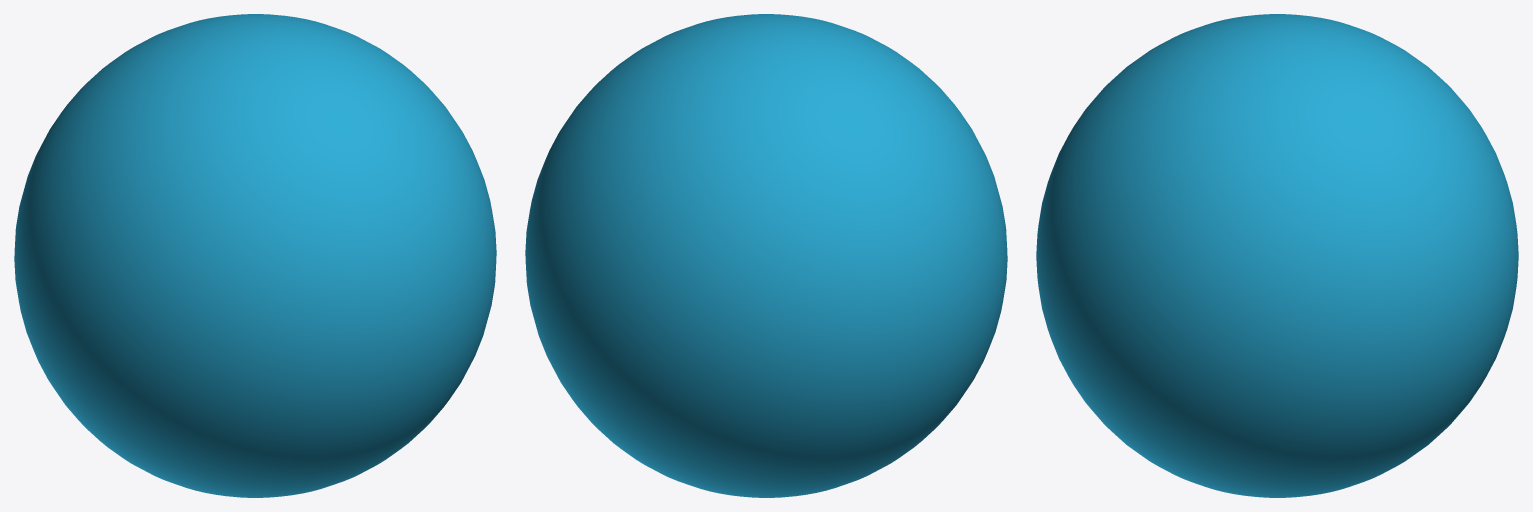
Rendered from TransparentBlueSphere.dae.
3 views of the same model, side by side, from view 1: azimuth 30°, elevation 25°; view 2: azimuth 150°, elevation 25°; view 3: azimuth 270°, elevation 25° (orthographic).
Visible parts, largest first — view 1: Sphere; view 2: Sphere; view 3: Sphere.
Part boxes in pixels (x1=…): Sphere: x1=14, y1=14, x2=496, y2=497; Sphere: x1=525, y1=14, x2=1007, y2=497; Sphere: x1=1036, y1=14, x2=1518, y2=497.
Size of the model in its own units: 1.98 by 1.98 by 2.
